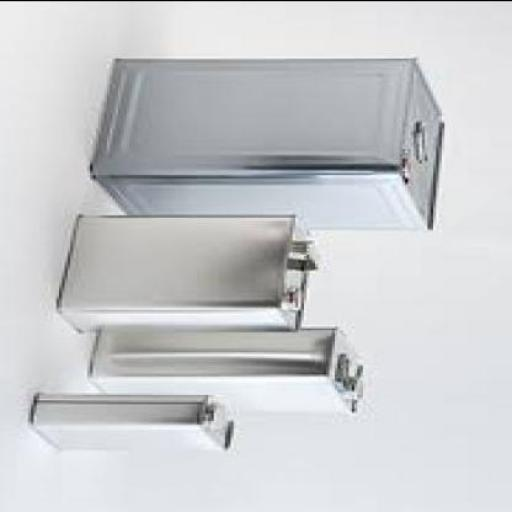metal: (90, 59, 450, 233), (62, 217, 321, 332), (96, 327, 368, 416), (34, 397, 233, 451)
